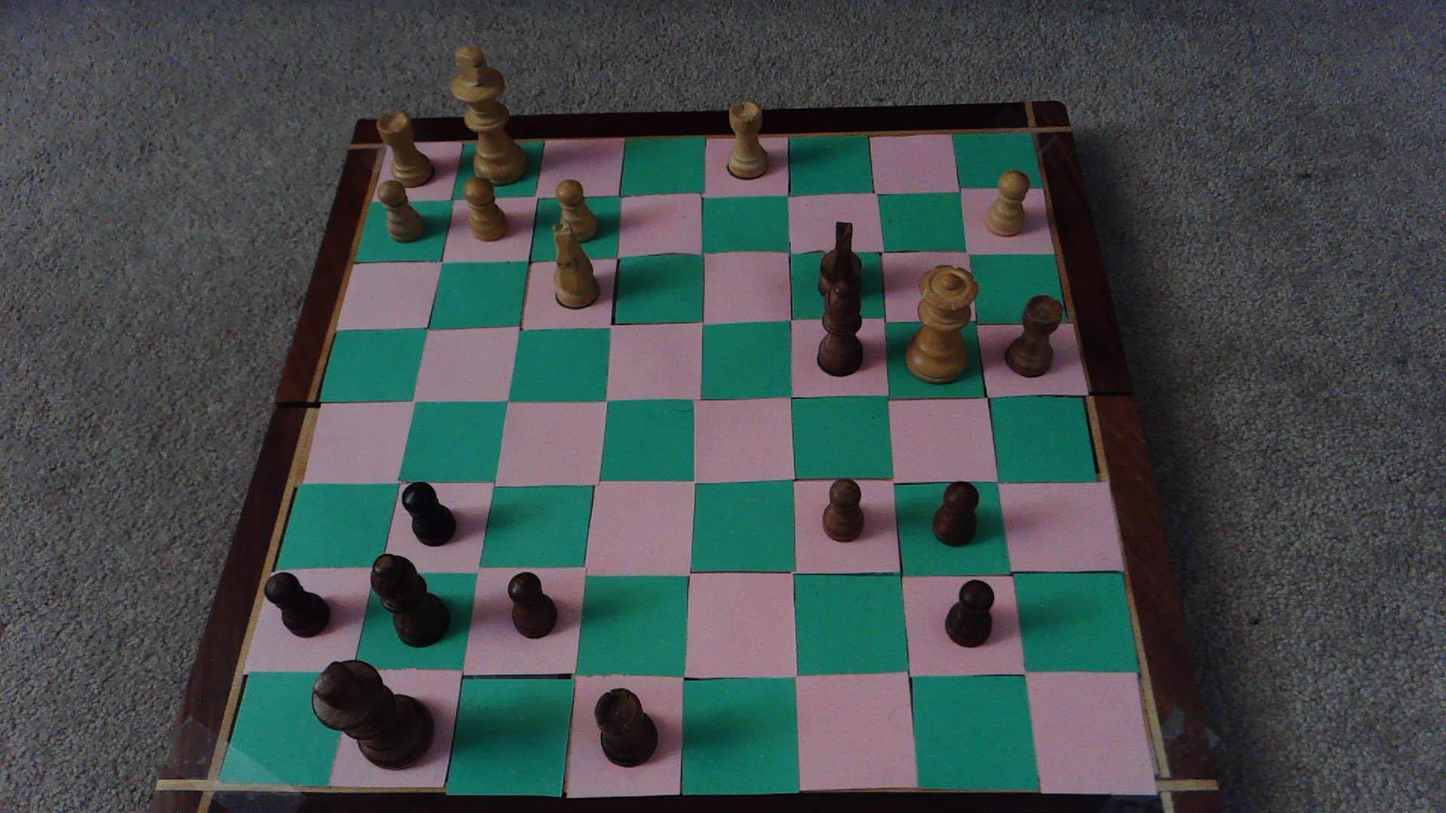dark_piece: (313, 660, 432, 769), (372, 554, 448, 646), (595, 688, 657, 766), (1005, 295, 1062, 376), (817, 279, 862, 376), (265, 573, 329, 637), (817, 221, 864, 301), (402, 482, 455, 546), (508, 572, 557, 638), (946, 580, 993, 646), (933, 482, 978, 546), (822, 479, 863, 541)
white_piece: (450, 45, 528, 185), (906, 266, 978, 383), (550, 222, 600, 308), (377, 113, 433, 185), (726, 100, 770, 179), (985, 170, 1030, 236), (377, 180, 424, 242), (463, 178, 508, 241), (556, 180, 598, 244)
